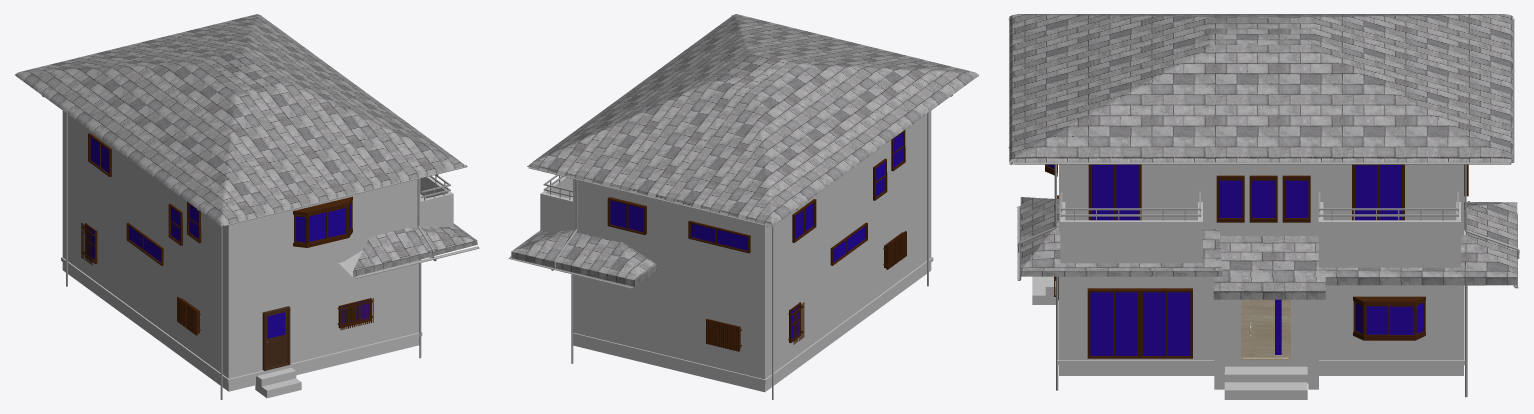
File: ie14_mid.fbx
3 views of the same model, side by side, from view 1: azimuth 30°, elevation 25°; view 2: azimuth 150°, elevation 25°; view 3: azimuth 270°, elevation 25° (orthographic). The views are drawn at different scales.
Visible parts, largest first — view 1: pTorus6; view 2: pTorus6; view 3: pTorus6.
Part boxes in pixels (<box>): pTorus6: <box>15,14,479,399</box>; pTorus6: <box>508,14,978,399</box>; pTorus6: <box>1008,14,1519,399</box>.
Bounding box in the file's own units: 1424 × 1254 × 1894.
